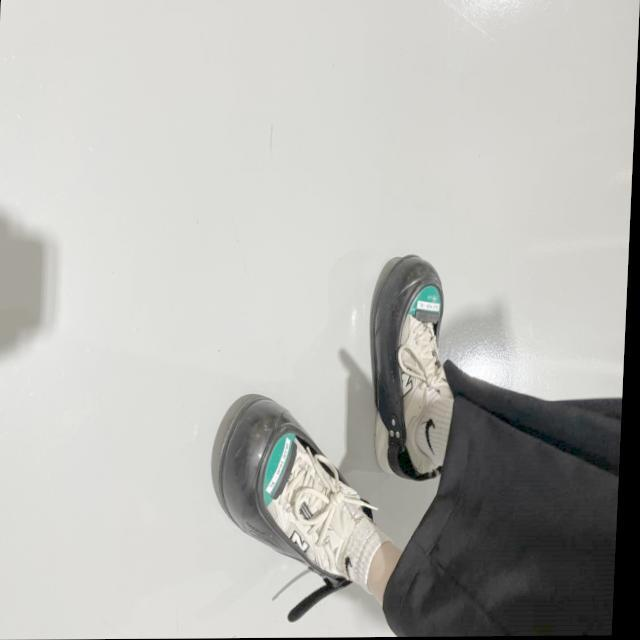shoes: (209, 383, 375, 596), (363, 248, 453, 476)
